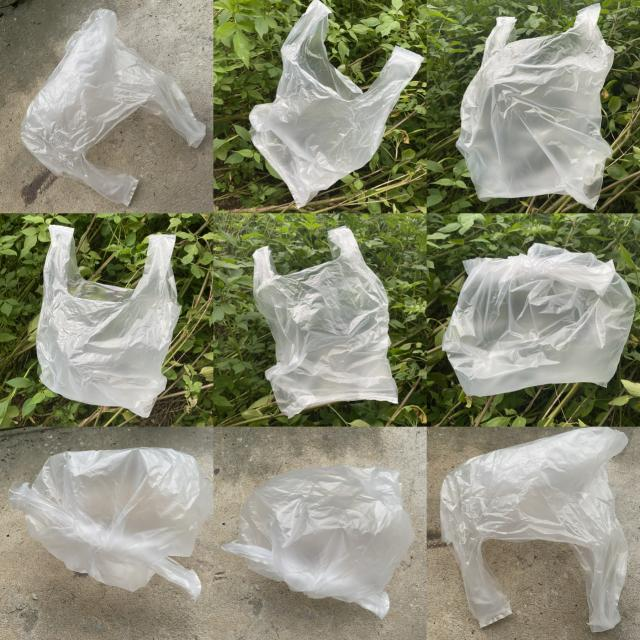Single-layer Plastic: (440, 429, 628, 631), (249, 0, 424, 208), (21, 9, 205, 206), (456, 4, 614, 209), (9, 448, 212, 599), (222, 465, 415, 619), (442, 244, 635, 396), (36, 225, 181, 417), (254, 226, 398, 417)
